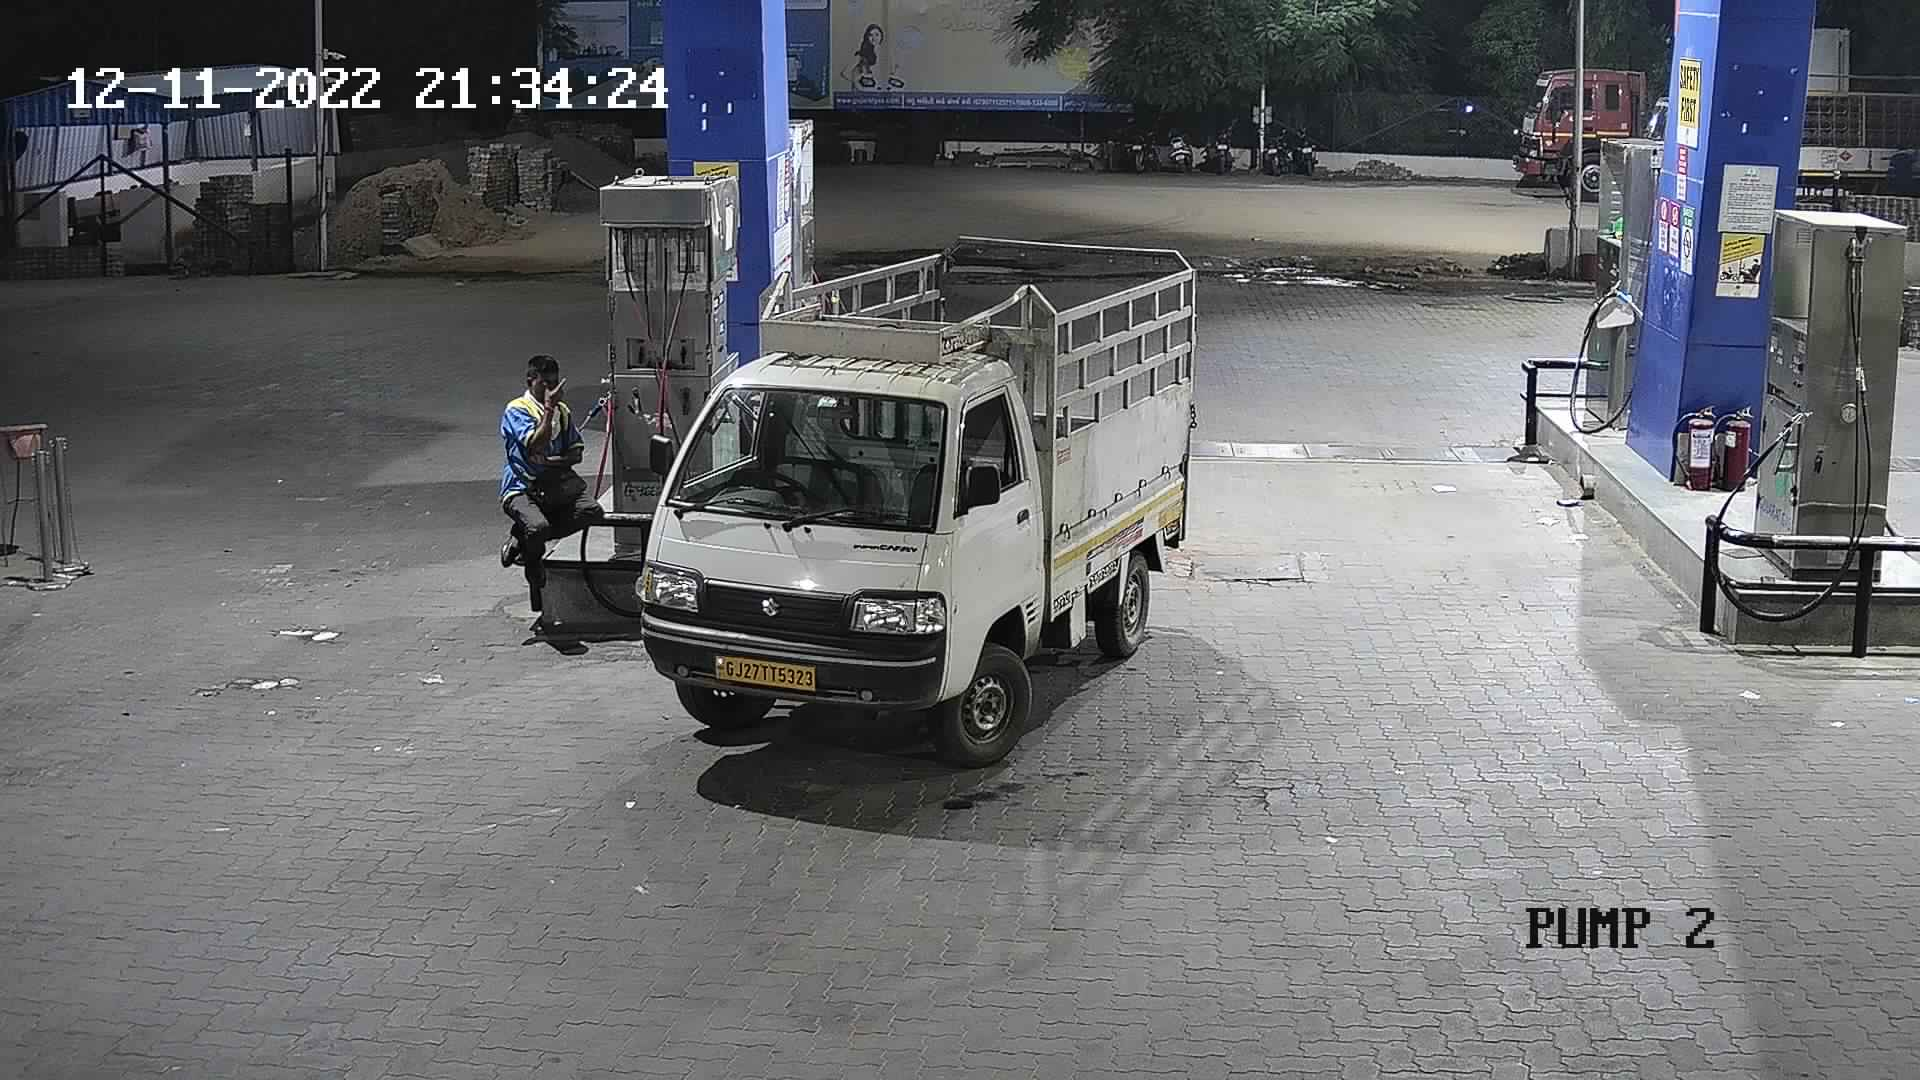Bike: (1116, 117, 1164, 185), (1199, 120, 1241, 182), (1251, 127, 1299, 179), (1158, 121, 1200, 181), (1288, 113, 1324, 179)
Car: (615, 220, 1211, 771)
HMV: (1497, 50, 1683, 210), (1766, 44, 1917, 212)
Others: (495, 342, 591, 566)
